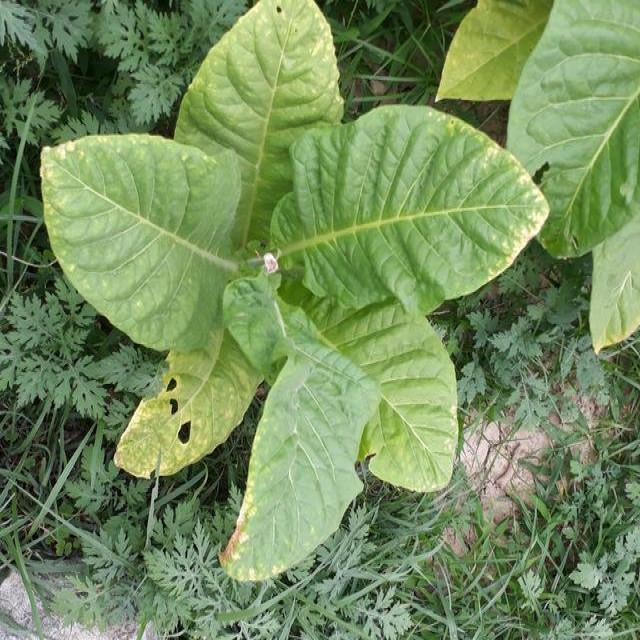crop: (85, 15, 512, 575), (443, 12, 634, 352)
